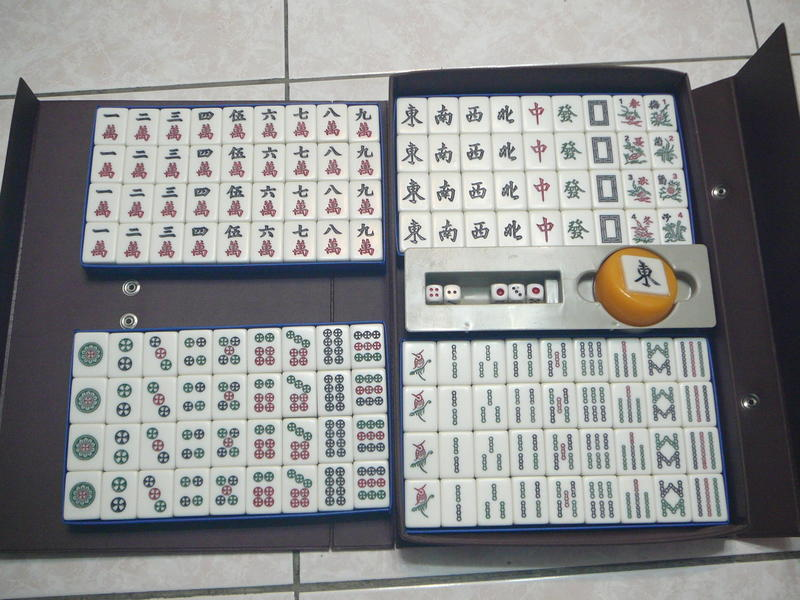1W: (86, 224, 113, 263), (94, 146, 119, 182), (99, 109, 123, 143), (90, 185, 114, 219)
1i: (403, 389, 437, 430), (405, 344, 435, 385), (405, 433, 433, 476), (409, 484, 439, 522)
1o: (65, 471, 97, 519), (68, 426, 101, 468), (74, 334, 106, 375), (72, 380, 103, 422)
2W: (126, 143, 154, 181), (118, 223, 144, 259), (124, 185, 149, 218), (128, 109, 152, 142)
2i: (439, 479, 476, 524), (441, 434, 471, 475), (442, 386, 470, 429), (441, 342, 462, 383)
2o: (107, 334, 141, 377), (102, 471, 135, 511), (107, 425, 135, 470), (112, 379, 136, 421)
3W: (152, 221, 178, 259), (154, 182, 182, 217), (160, 145, 185, 179), (164, 109, 186, 143)
3i: (471, 384, 507, 429), (472, 342, 503, 384), (480, 480, 510, 521), (475, 433, 504, 471)
3o: (138, 471, 170, 515), (140, 378, 173, 420), (142, 335, 175, 376), (140, 424, 170, 465)
4W: (184, 222, 211, 260), (191, 107, 218, 143), (191, 145, 216, 182), (188, 183, 212, 218)
4i: (515, 478, 545, 519), (510, 384, 539, 426), (513, 430, 543, 470), (508, 340, 537, 381)
4o: (176, 423, 209, 465), (174, 470, 206, 511), (178, 376, 207, 418), (180, 333, 210, 371)
5W: (221, 182, 247, 221), (223, 107, 249, 142), (223, 144, 249, 179), (220, 222, 244, 259)
5i: (551, 477, 583, 521), (541, 339, 572, 380), (549, 429, 578, 471), (544, 385, 574, 424)
5o: (213, 330, 244, 371), (214, 377, 243, 418), (212, 470, 241, 508), (213, 424, 241, 459)
6W: (252, 183, 281, 219), (256, 106, 282, 143), (253, 219, 277, 257), (257, 143, 281, 179)
6i: (581, 428, 613, 472), (584, 478, 617, 519), (577, 383, 609, 424), (576, 339, 607, 380)
6o: (246, 374, 280, 418), (250, 327, 280, 373), (249, 418, 279, 464), (249, 466, 280, 509)
7W: (283, 222, 312, 260), (286, 182, 314, 217), (286, 144, 312, 177), (289, 106, 313, 139)
7i: (612, 382, 646, 425), (607, 339, 642, 380), (623, 477, 653, 521), (619, 430, 647, 473)
7o: (281, 416, 315, 463), (283, 466, 314, 510), (283, 372, 312, 414), (285, 329, 312, 371)
8W: (319, 221, 345, 258), (318, 144, 344, 179), (320, 181, 344, 217), (318, 106, 341, 135)
8i: (655, 475, 689, 521), (649, 429, 685, 472), (644, 339, 675, 379), (649, 382, 677, 425)
8o: (318, 371, 351, 415), (318, 466, 351, 509), (319, 419, 349, 461), (318, 324, 346, 368)
9W: (352, 218, 376, 258), (350, 142, 377, 177), (352, 178, 376, 216), (351, 106, 374, 139)
9i: (692, 474, 723, 519), (681, 382, 714, 424), (676, 339, 707, 379), (687, 430, 717, 468)
9o: (352, 459, 387, 506), (348, 371, 385, 413), (349, 323, 383, 366), (352, 417, 386, 455)
East: (398, 176, 428, 210), (401, 216, 428, 247), (399, 98, 423, 131), (402, 137, 425, 169)
Green: (562, 173, 588, 205), (556, 135, 583, 164), (564, 213, 590, 242), (555, 102, 579, 129)
North: (493, 135, 520, 165), (499, 214, 526, 243), (492, 100, 518, 130), (495, 176, 522, 204)
Red: (524, 135, 550, 167), (530, 174, 552, 205), (535, 213, 557, 243), (523, 100, 547, 126)
South: (436, 213, 461, 246), (430, 177, 457, 205), (431, 138, 456, 167), (430, 101, 455, 129)
West: (460, 100, 486, 129), (461, 136, 486, 165), (467, 217, 491, 243), (466, 175, 488, 202)
White: (594, 171, 622, 206), (589, 134, 618, 167), (583, 97, 612, 129), (596, 211, 624, 244)
